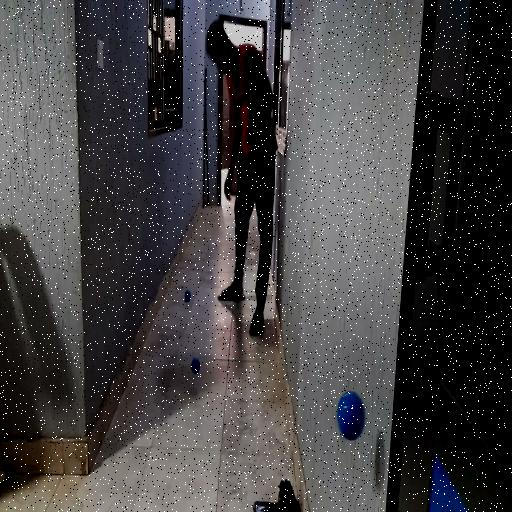plastic-ball: (336, 391, 365, 441)
